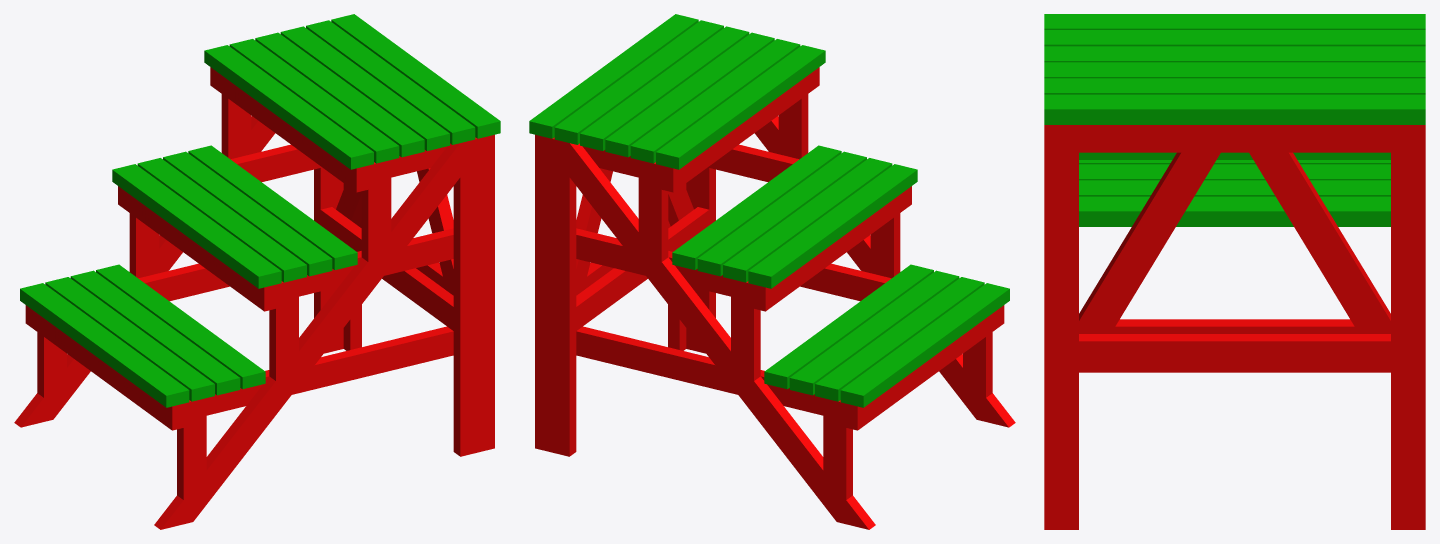
File: result.glb
3 views of the same model, side by side, from view 1: azimuth 30°, elevation 25°; view 2: azimuth 150°, elevation 25°; view 3: azimuth 270°, elevation 25° (orthographic). The views are drawn at different scales.
Visible parts, largest first — view 1: 9c0ccc2b-c8cf-41b4-bf5a-d4fd25fd459f__undefined, 873eaf0a-433b-47bb-bbdd-9ec27cc30991__undefined, 693a6000-1b92-400d-ac47-7011dd4e3d04__undefined, 79ff1b8d-7c6c-4d8f-9ce4-a04602cd10f3__undefined, 5dde7d48-8605-4a7c-9c1d-95904f66b359__undefined, 18a3dbe3-3360-4c0c-a66c-9250f7cd0f52__undefined, d05dfd72-61f3-47fa-a298-36f2b213daa0__undefined, c415b089-6436-433d-a51b-6bb8f7bec2a1__undefined, dfccf020-826d-4016-b47e-672972bec84f__undefined, 0414467d-048d-4bd2-94a2-865755bcbdf7__undefined, 6fe6812c-296e-4ce7-a59e-f4ee1e08e197__undefined, b8da86b4-e540-4a58-828f-49c299b18ea9__undefined (+25 smaller); view 2: 97beb6bd-0e54-4b52-a6c4-e9645d659412__undefined, 03572d72-dec9-4f2d-a2b5-d3e39ca5a25c__undefined, ae2b4b9b-e7ae-43b5-bbc5-8d9216403556__undefined, 79ff1b8d-7c6c-4d8f-9ce4-a04602cd10f3__undefined, 18a3dbe3-3360-4c0c-a66c-9250f7cd0f52__undefined, 5dde7d48-8605-4a7c-9c1d-95904f66b359__undefined, d05dfd72-61f3-47fa-a298-36f2b213daa0__undefined, c415b089-6436-433d-a51b-6bb8f7bec2a1__undefined, dfccf020-826d-4016-b47e-672972bec84f__undefined, 0414467d-048d-4bd2-94a2-865755bcbdf7__undefined, 6fe6812c-296e-4ce7-a59e-f4ee1e08e197__undefined, b8da86b4-e540-4a58-828f-49c299b18ea9__undefined (+26 smaller); view 3: afd2d161-0d8a-421e-ac4f-5528cda1c9b8__undefined, d88c8174-d8c8-4f10-af45-99d14041d05c__undefined, c3eb5342-3227-49d4-874b-25e82a59720c__undefined, dba27fc1-218b-4cbc-bac3-0be5c583d062__undefined, 5ccd83bb-aceb-42ea-8694-999927710f01__undefined, 0ca1219b-4c56-4747-b8f4-81c9defb86f7__undefined (×2), 547d1157-22fd-43ba-955a-8b82ca61dfce__undefined, c415b089-6436-433d-a51b-6bb8f7bec2a1__undefined, d05dfd72-61f3-47fa-a298-36f2b213daa0__undefined, baddbbf4-9a9f-431d-91b0-d05523073986__undefined, 15a6f1bb-450c-4f9b-a902-67c962ae9e5d__undefined, dfccf020-826d-4016-b47e-672972bec84f__undefined (+6 smaller).
Part boxes in pixels (left/top/right/bottom): 9c0ccc2b-c8cf-41b4-bf5a-d4fd25fd459f__undefined: left=154, top=143, right=460, bottom=529; 873eaf0a-433b-47bb-bbdd-9ec27cc30991__undefined: left=453, top=137, right=483, bottom=456; 693a6000-1b92-400d-ac47-7011dd4e3d04__undefined: left=206, top=326, right=453, bottom=415; 79ff1b8d-7c6c-4d8f-9ce4-a04602cd10f3__undefined: left=112, top=164, right=281, bottom=288; 5dde7d48-8605-4a7c-9c1d-95904f66b359__undefined: left=204, top=45, right=373, bottom=169; 18a3dbe3-3360-4c0c-a66c-9250f7cd0f52__undefined: left=20, top=283, right=189, bottom=407; d05dfd72-61f3-47fa-a298-36f2b213daa0__undefined: left=229, top=39, right=399, bottom=163; c415b089-6436-433d-a51b-6bb8f7bec2a1__undefined: left=96, top=264, right=265, bottom=389; dfccf020-826d-4016-b47e-672972bec84f__undefined: left=306, top=20, right=475, bottom=144; 0414467d-048d-4bd2-94a2-865755bcbdf7__undefined: left=137, top=158, right=306, bottom=282; 6fe6812c-296e-4ce7-a59e-f4ee1e08e197__undefined: left=188, top=145, right=357, bottom=269; b8da86b4-e540-4a58-828f-49c299b18ea9__undefined: left=45, top=277, right=214, bottom=401; 97beb6bd-0e54-4b52-a6c4-e9645d659412__undefined: left=569, top=143, right=875, bottom=529; 03572d72-dec9-4f2d-a2b5-d3e39ca5a25c__undefined: left=546, top=137, right=576, bottom=456; ae2b4b9b-e7ae-43b5-bbc5-8d9216403556__undefined: left=576, top=326, right=823, bottom=415; 79ff1b8d-7c6c-4d8f-9ce4-a04602cd10f3__undefined: left=748, top=164, right=917, bottom=288; 18a3dbe3-3360-4c0c-a66c-9250f7cd0f52__undefined: left=840, top=283, right=1009, bottom=407; 5dde7d48-8605-4a7c-9c1d-95904f66b359__undefined: left=656, top=45, right=825, bottom=169; d05dfd72-61f3-47fa-a298-36f2b213daa0__undefined: left=630, top=39, right=800, bottom=163; c415b089-6436-433d-a51b-6bb8f7bec2a1__undefined: left=764, top=264, right=933, bottom=389; dfccf020-826d-4016-b47e-672972bec84f__undefined: left=554, top=20, right=723, bottom=144; 0414467d-048d-4bd2-94a2-865755bcbdf7__undefined: left=723, top=158, right=892, bottom=282; 6fe6812c-296e-4ce7-a59e-f4ee1e08e197__undefined: left=672, top=145, right=841, bottom=269; b8da86b4-e540-4a58-828f-49c299b18ea9__undefined: left=815, top=277, right=984, bottom=401; afd2d161-0d8a-421e-ac4f-5528cda1c9b8__undefined: left=1044, top=152, right=1078, bottom=529; d88c8174-d8c8-4f10-af45-99d14041d05c__undefined: left=1391, top=152, right=1425, bottom=529; c3eb5342-3227-49d4-874b-25e82a59720c__undefined: left=1079, top=334, right=1390, bottom=372; dba27fc1-218b-4cbc-bac3-0be5c583d062__undefined: left=1044, top=94, right=1425, bottom=124; 5ccd83bb-aceb-42ea-8694-999927710f01__undefined: left=1044, top=125, right=1425, bottom=152; 0ca1219b-4c56-4747-b8f4-81c9defb86f7__undefined (×2): left=1079, top=152, right=1220, bottom=333; 547d1157-22fd-43ba-955a-8b82ca61dfce__undefined: left=1249, top=152, right=1390, bottom=333; c415b089-6436-433d-a51b-6bb8f7bec2a1__undefined: left=1079, top=196, right=1390, bottom=226; d05dfd72-61f3-47fa-a298-36f2b213daa0__undefined: left=1044, top=30, right=1425, bottom=46; baddbbf4-9a9f-431d-91b0-d05523073986__undefined: left=1044, top=46, right=1425, bottom=62; 15a6f1bb-450c-4f9b-a902-67c962ae9e5d__undefined: left=1044, top=62, right=1425, bottom=78; dfccf020-826d-4016-b47e-672972bec84f__undefined: left=1044, top=78, right=1425, bottom=94.
Bounding box in the file's own units: 738 × 675 × 550.
